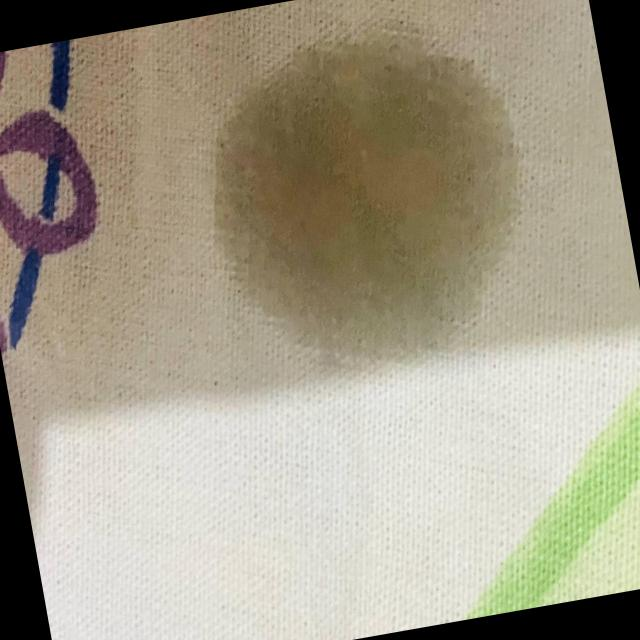stain: (182, 0, 562, 399)
